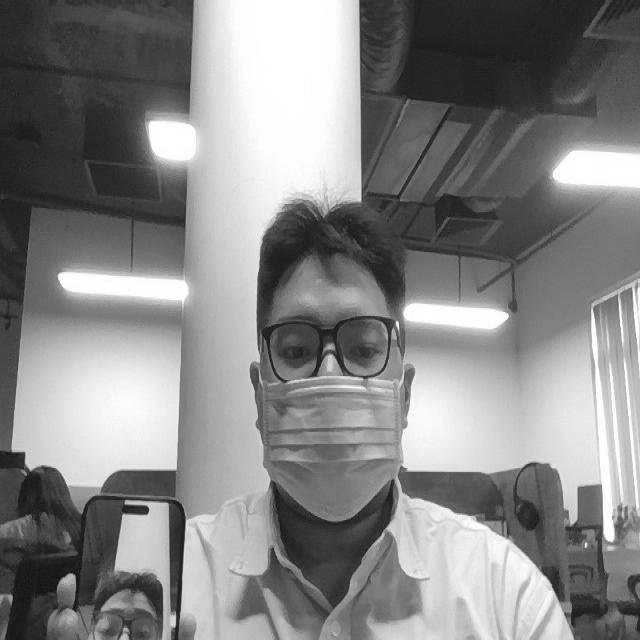fake: (255, 371, 407, 525), (67, 481, 193, 640), (85, 567, 169, 640)
real: (249, 182, 417, 531), (257, 314, 407, 379)
